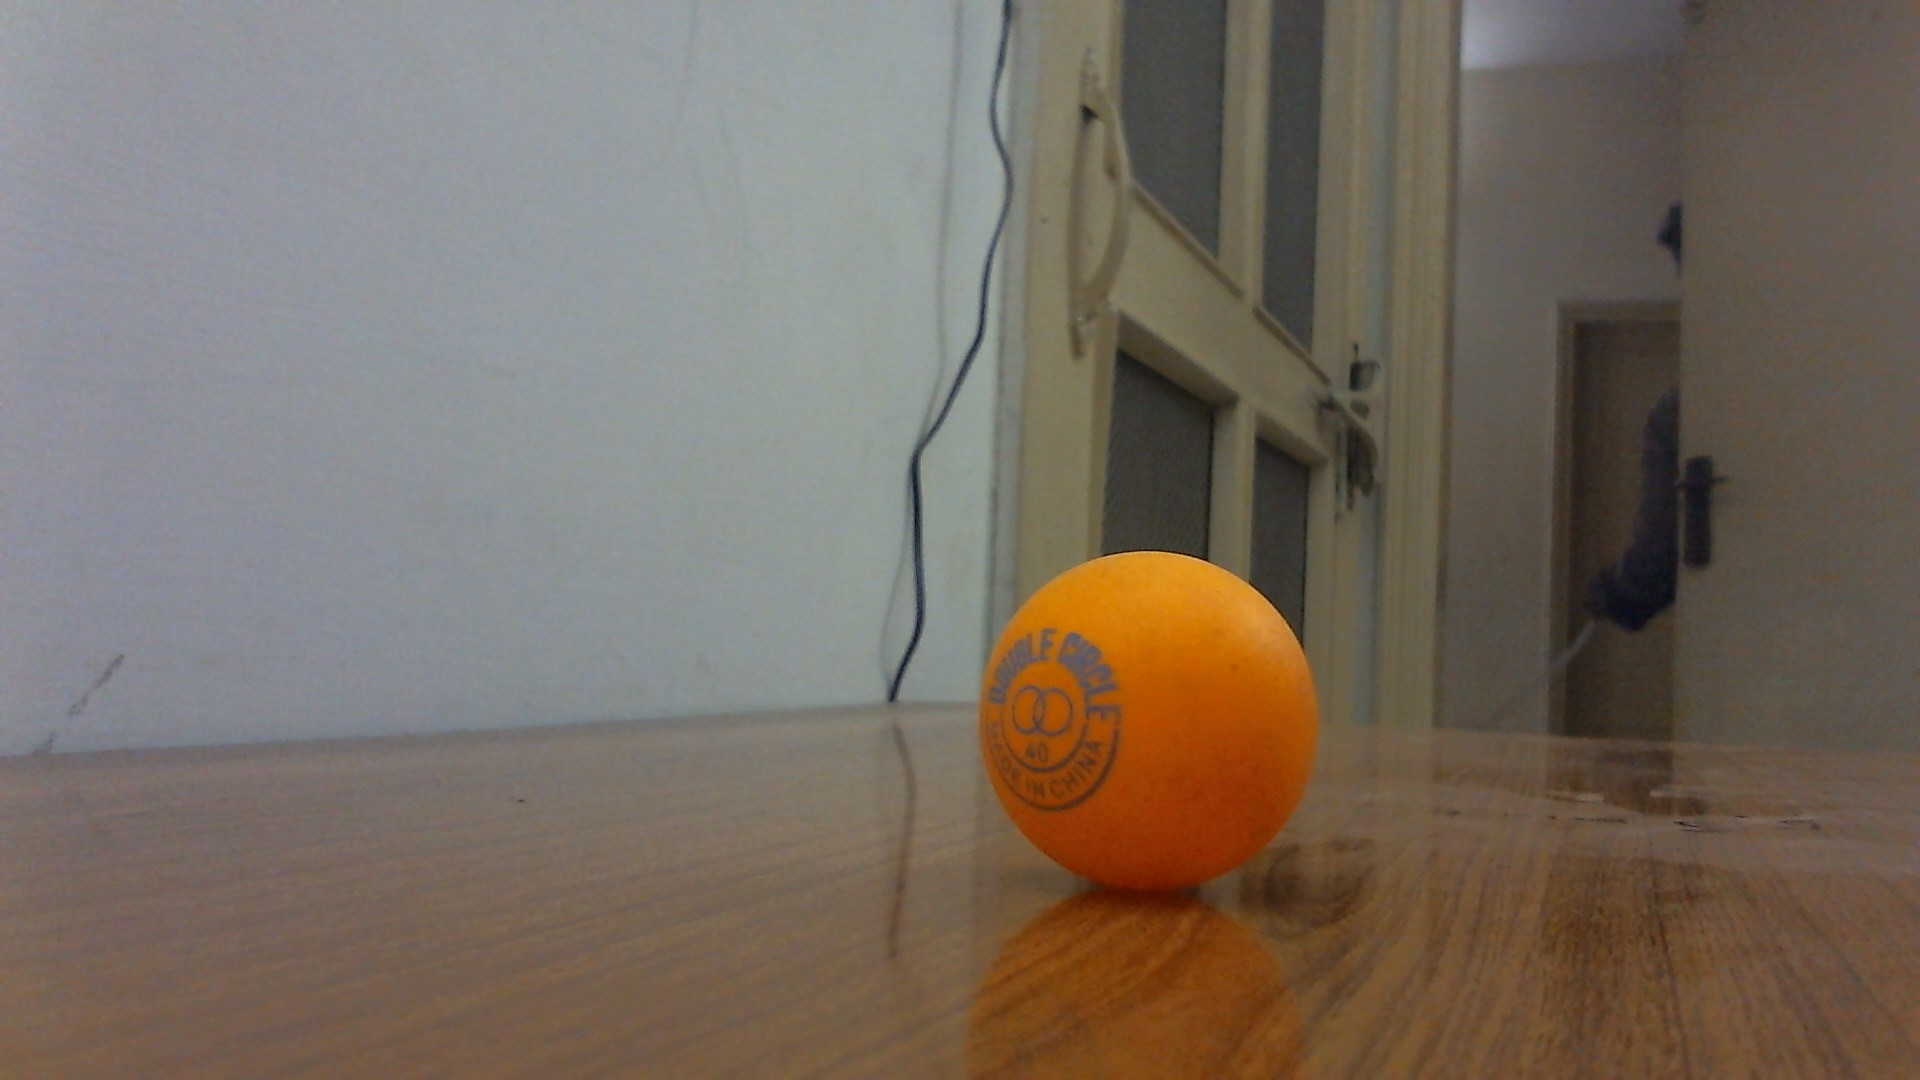ball: (977, 546, 1323, 894)
